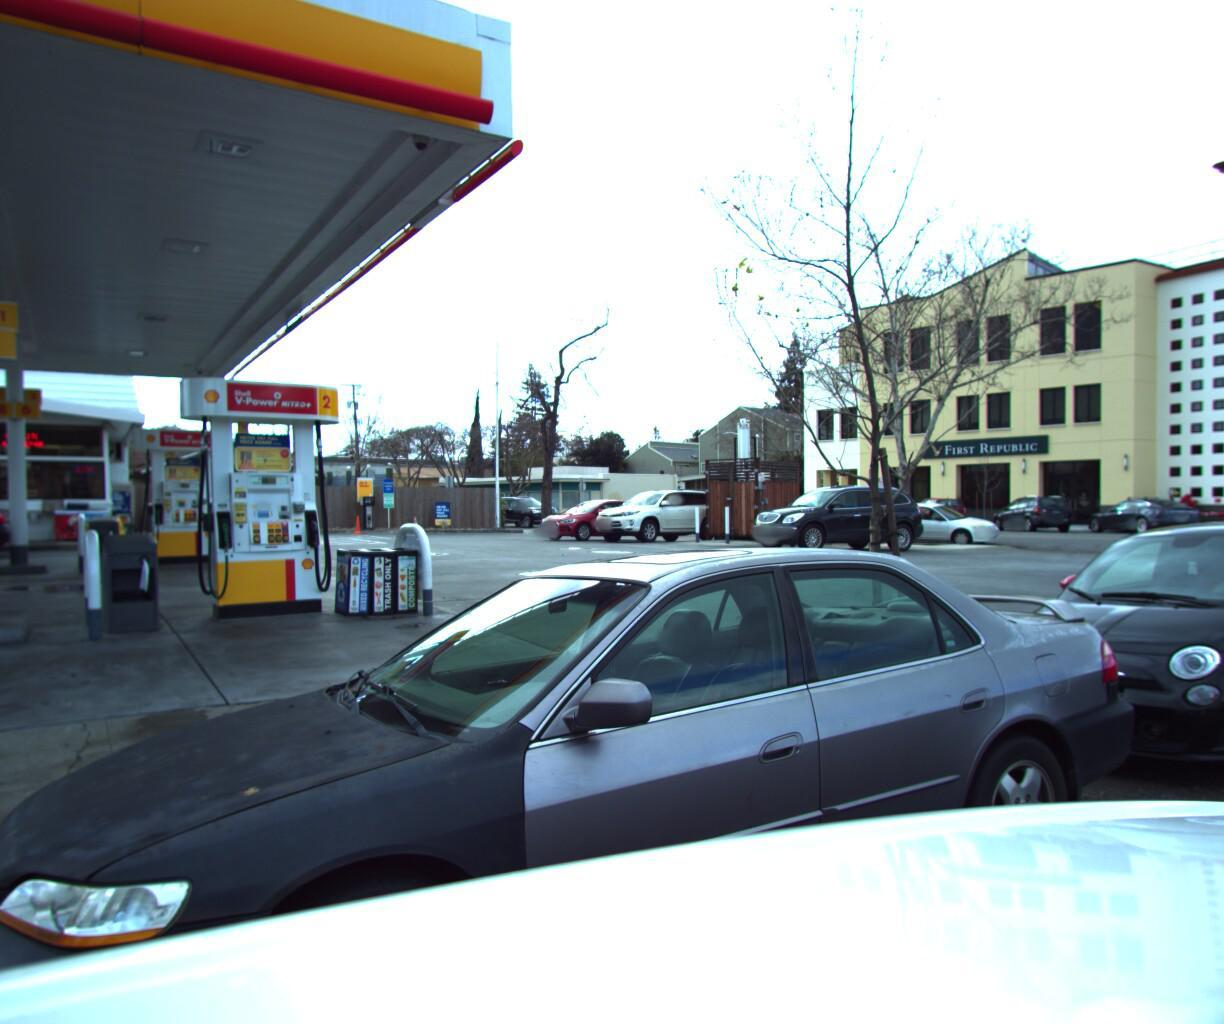car: (0, 525, 1189, 1024), (970, 508, 1224, 824), (737, 475, 941, 553), (591, 483, 735, 542), (866, 495, 1017, 543), (534, 493, 668, 542), (1085, 487, 1220, 531), (987, 488, 1088, 528), (0, 490, 35, 576), (906, 491, 979, 527)
